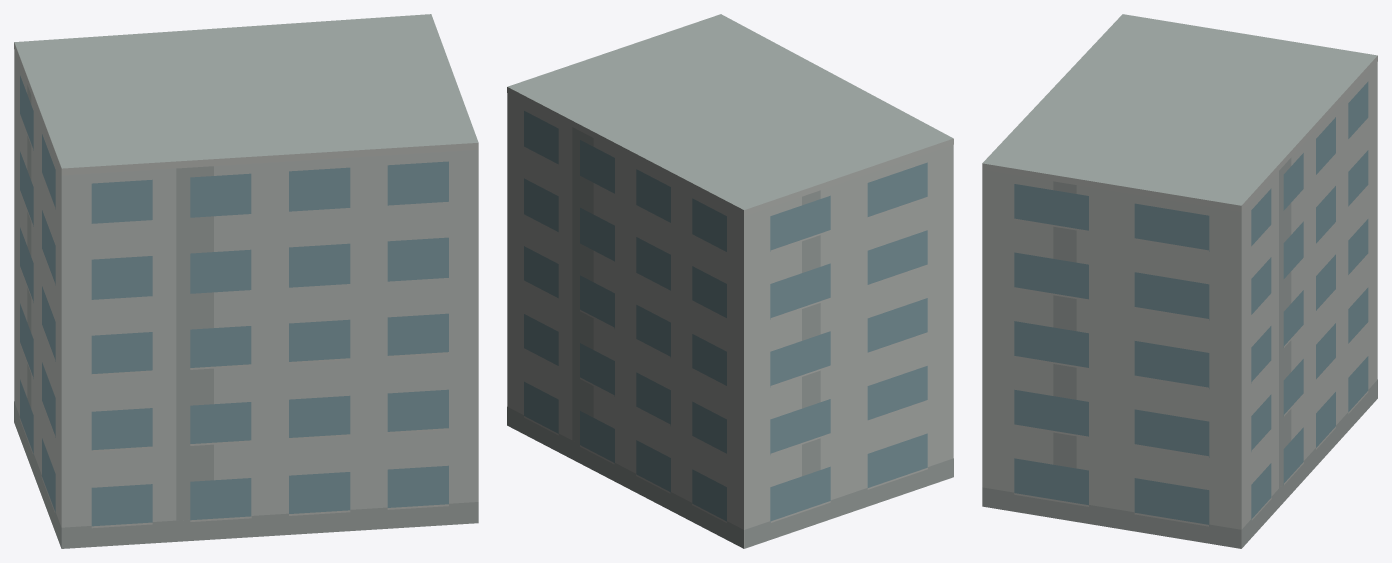
File: survey-upis-32877242.glb
3 views of the same model, side by side, from view 1: azimuth 30°, elevation 25°; view 2: azimuth 150°, elevation 25°; view 3: azimuth 270°, elevation 25° (orthographic). The views are drawn at different scales.
Parts seen in each view (by area): view 1: survey-upis-32877242.tmp; view 2: survey-upis-32877242.tmp; view 3: survey-upis-32877242.tmp.
Part boxes in pixels (<box>): survey-upis-32877242.tmp: <box>14,14,478,548</box>; survey-upis-32877242.tmp: <box>507,14,953,548</box>; survey-upis-32877242.tmp: <box>982,14,1377,548</box>.
Size of the model in its own units: 15.77 by 13.15 by 13.75.
